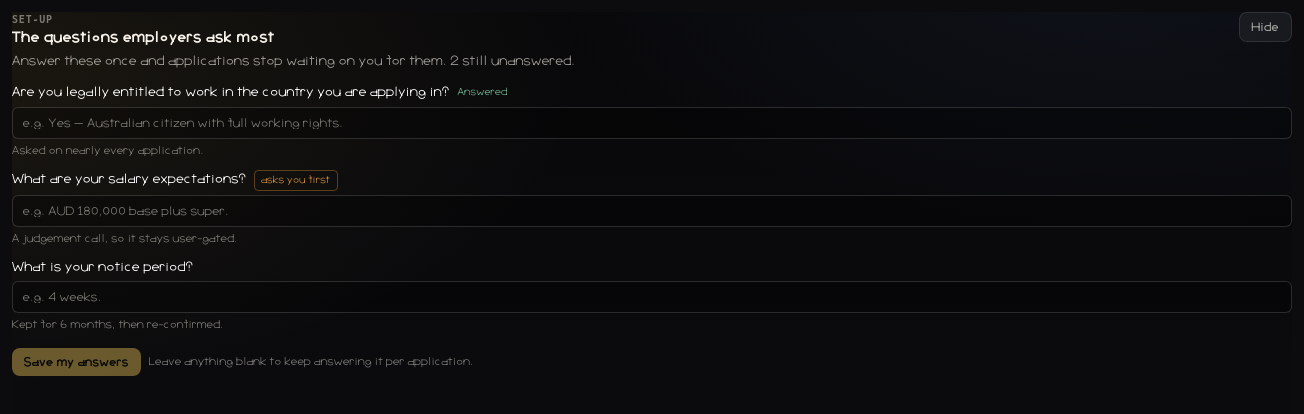
Test case: ScreeningQuestionnaire › surfaces a save failure instead of implying the answer was stored
Type "4 weeks" into the field with test id "seed-input-notice_period" at (652, 297), box x1=12 y1=281 x2=1292 y2=313
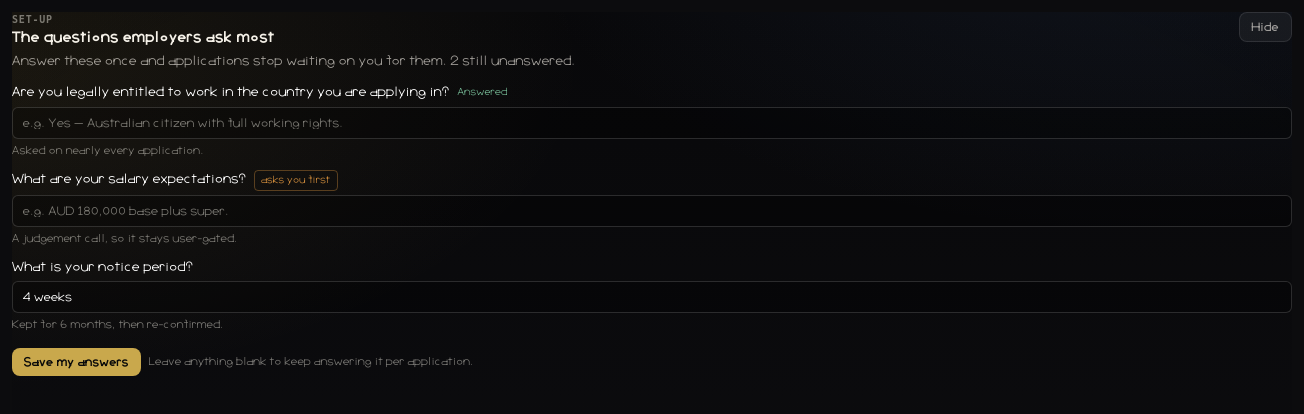
Click the button with test id "bank-questionnaire-save" at (76, 362), box x1=12 y1=348 x2=141 y2=376
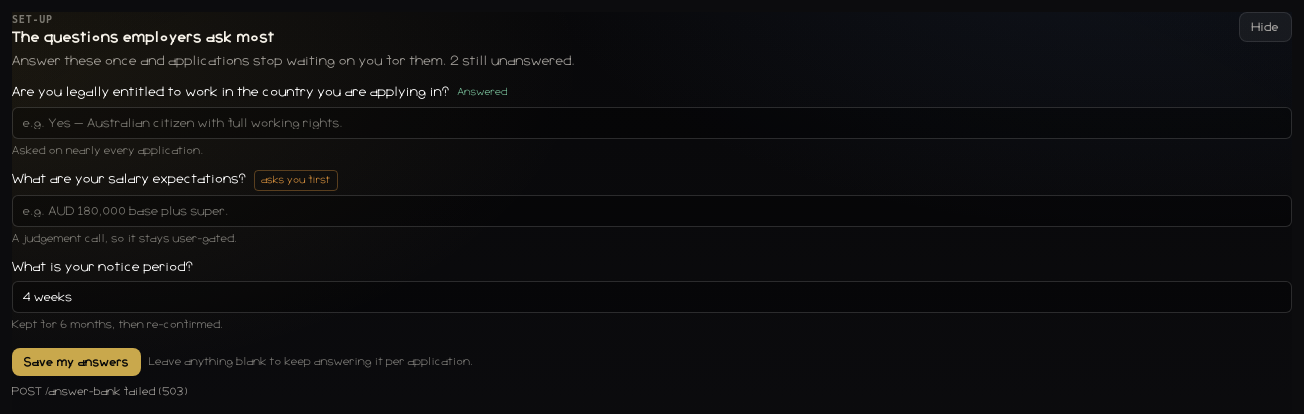
Expected: the text with test id "bank-questionnaire-result" shows "503", x1=12 y1=386 x2=188 y2=397
